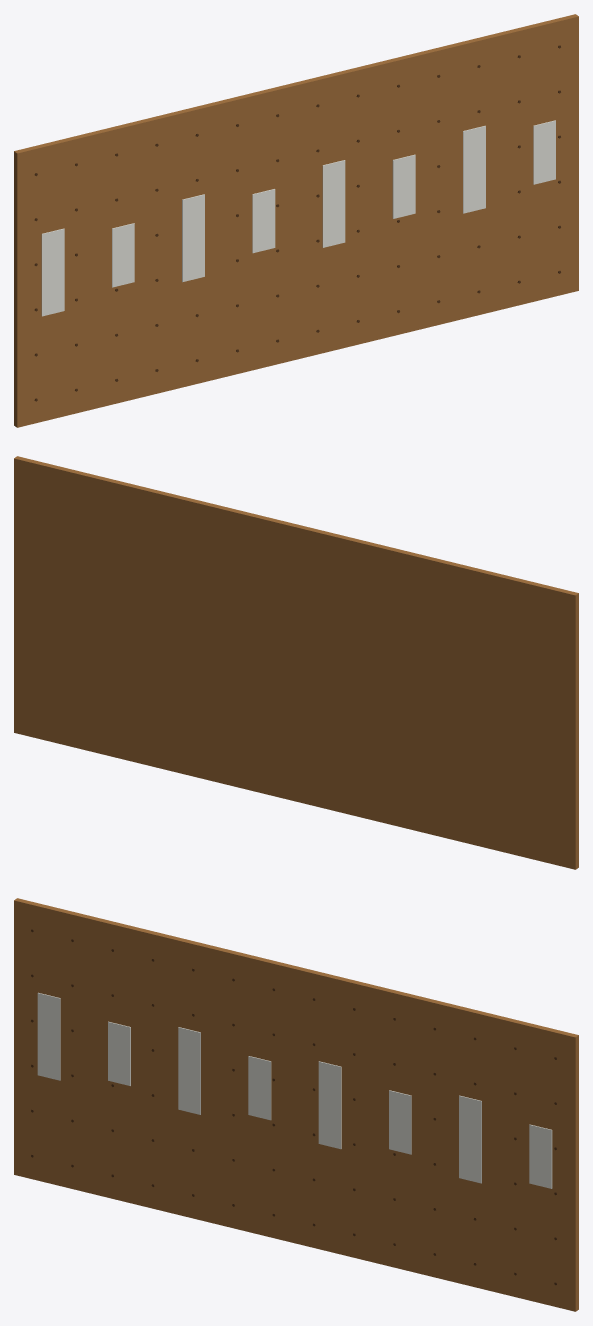
File: tool_board.glb
3 renders of one model, top to bottom at view 1: azimuth 30°, elevation 25°; view 2: azimuth 150°, elevation 25°; view 3: azimuth 330°, elevation 25°, orthographic.
Parts seen in each view (by area): view 1: board_peg_board, outline_peg_outline, hole_peg_hole; view 2: board_peg_board; view 3: board_peg_board, outline_peg_outline, hole_peg_hole.
Boxes of the visible parts, <box> form: board_peg_board: <box>14,14,578,427</box>; outline_peg_outline: <box>41,120,555,316</box>; hole_peg_hole: <box>34,45,560,401</box>; board_peg_board: <box>14,456,578,869</box>; board_peg_board: <box>14,898,578,1311</box>; outline_peg_outline: <box>37,992,552,1188</box>; hole_peg_hole: <box>31,929,557,1285</box>.
Size of the model in its own units: 3 by 1.4 by 0.035.
